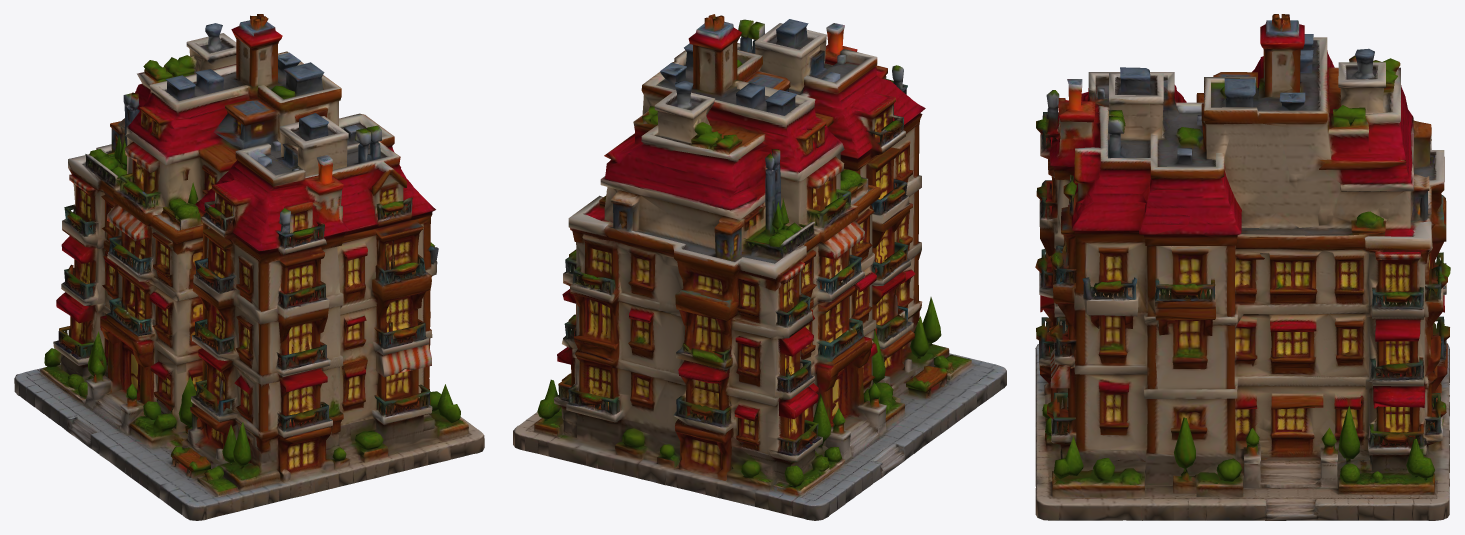
File: house_small_stage6.glb
3 renders of one model, left to right at view 1: azimuth 30°, elevation 25°; view 2: azimuth 150°, elevation 25°; view 3: azimuth 270°, elevation 25°, orthographic. The views are drawn at different scales.
Parts seen in each view (by area): view 1: tripo_node_9136bc21-4fd2-406f-a6a8-82de696ffb03; view 2: tripo_node_9136bc21-4fd2-406f-a6a8-82de696ffb03; view 3: tripo_node_9136bc21-4fd2-406f-a6a8-82de696ffb03.
Boxes of the visible parts, x1,y1,x2,y2 form: tripo_node_9136bc21-4fd2-406f-a6a8-82de696ffb03: (14, 14, 484, 520); tripo_node_9136bc21-4fd2-406f-a6a8-82de696ffb03: (513, 14, 1006, 520); tripo_node_9136bc21-4fd2-406f-a6a8-82de696ffb03: (1035, 14, 1450, 520).
Bounding box in the file's own units: 0.8102 × 1 × 0.8632.
1 material, 1 textured.
